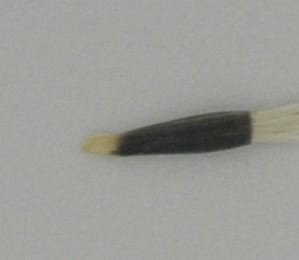เมล็ดดีติดกัน: (79, 101, 299, 161)
